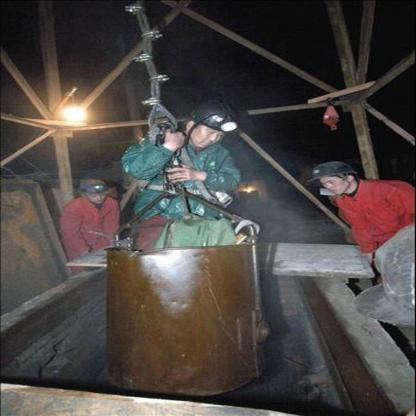face: (191, 121, 226, 148), (321, 178, 350, 196), (87, 191, 107, 205)
